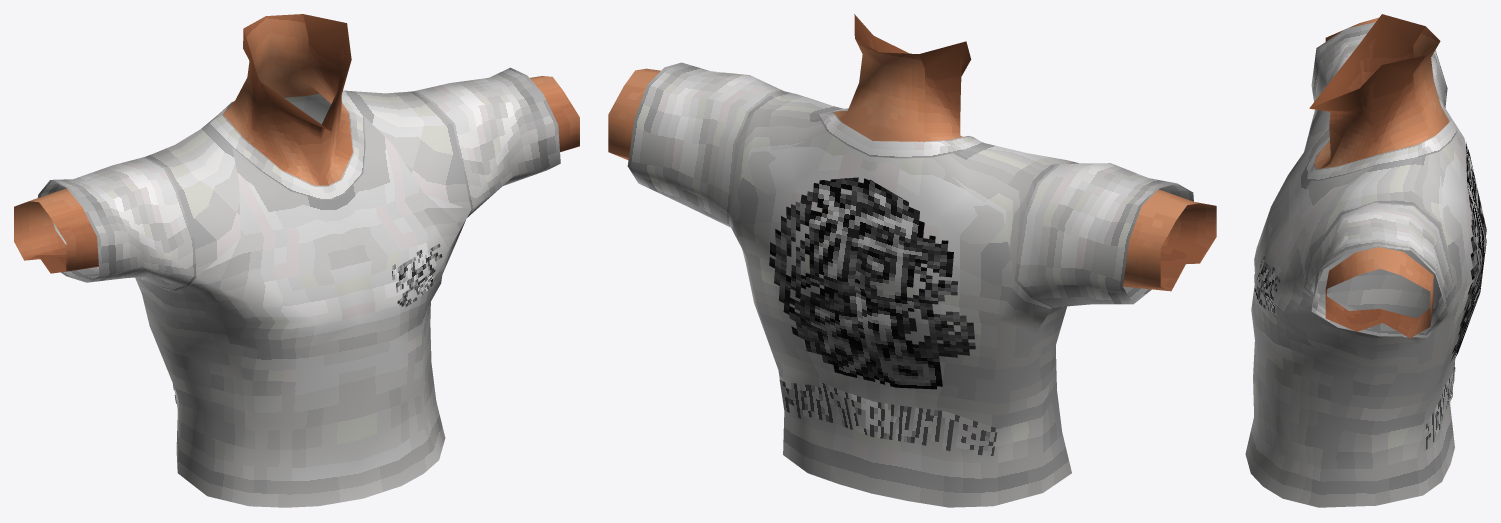
File: m_body249.glb
The picture shows the model from 3 angles, left to right: view 1: azimuth 30°, elevation 25°; view 2: azimuth 150°, elevation 25°; view 3: azimuth 270°, elevation 25°; orthographic projection. The views are drawn at different scales.
Size of the model in its own units: 70.67 by 54.73 by 28.67.
2 materials, 2 textured.
